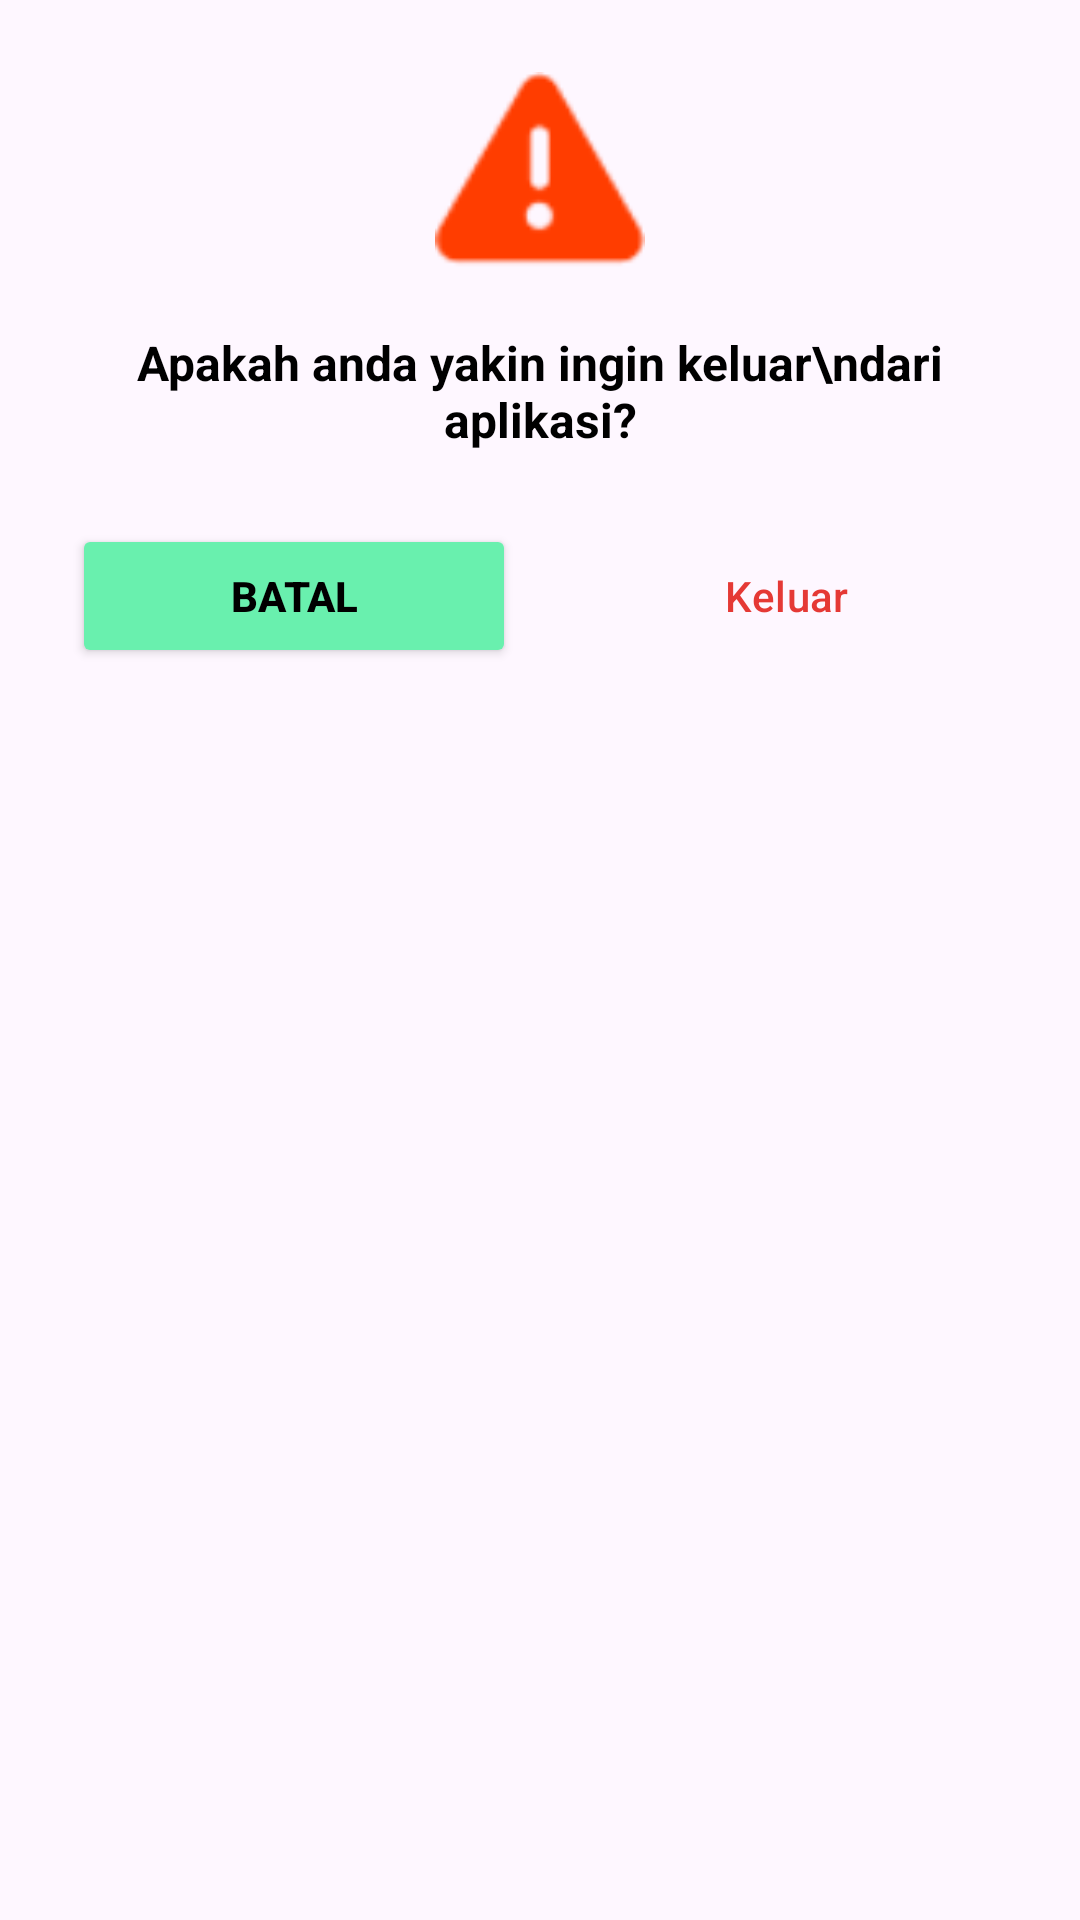

Icon click points for this 1080 x 1920 phone screenshot, format [x,y]:
alert: [540,168]
